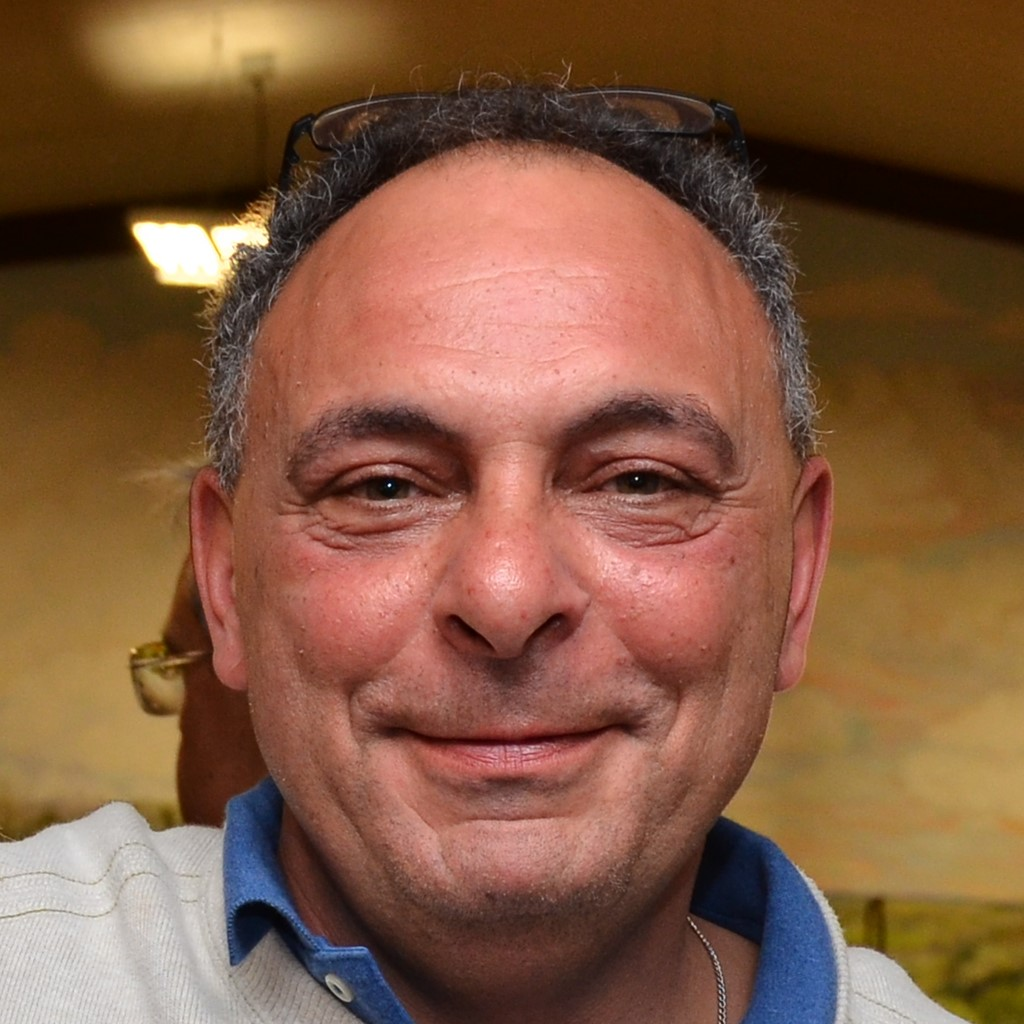sin_mascara: (213, 185, 815, 972)
